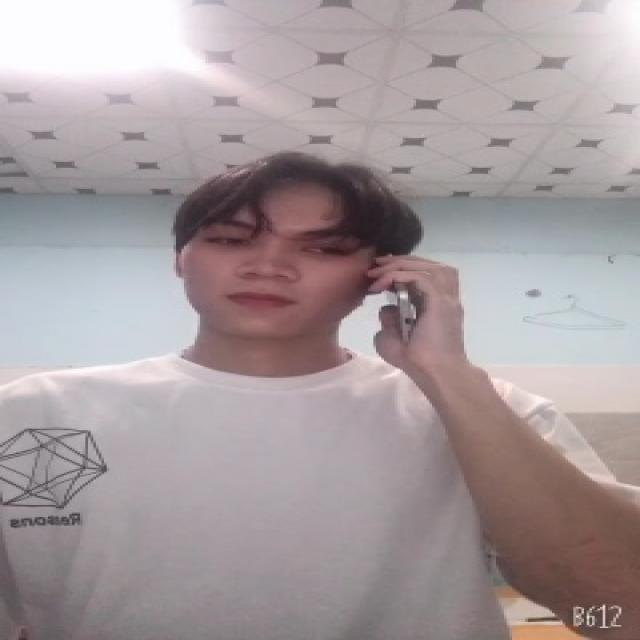Phone: (368, 248, 431, 354)
